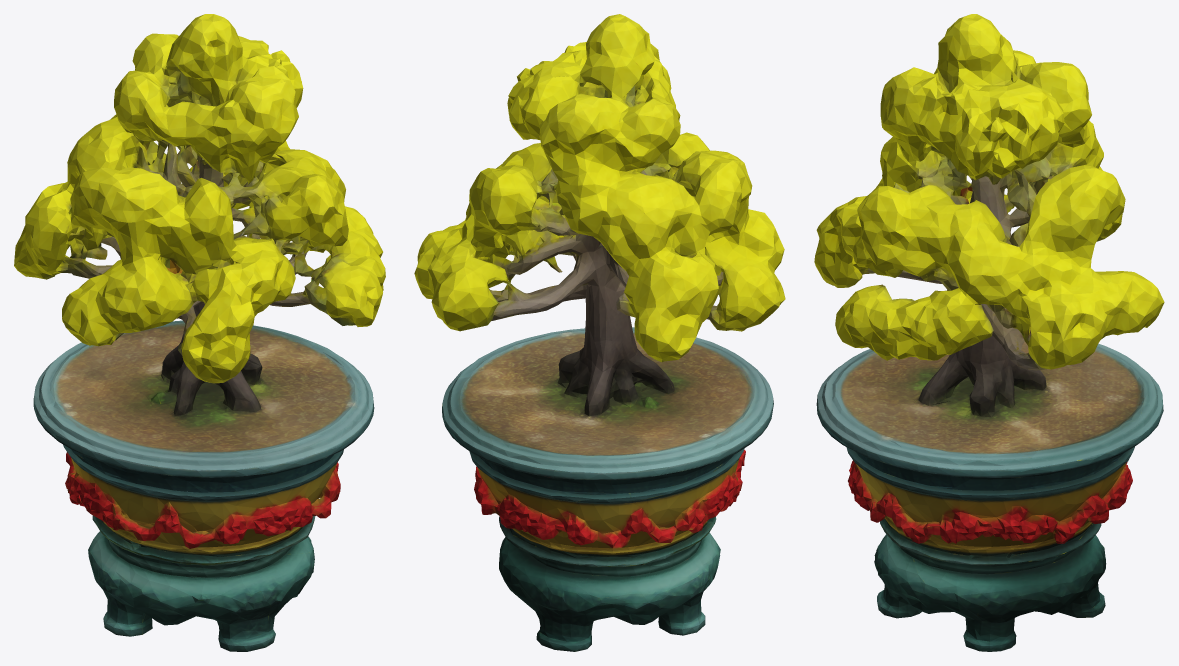
The model's file is cay_mai (3).glb.
3 renders of one model, left to right at view 1: azimuth 30°, elevation 25°; view 2: azimuth 150°, elevation 25°; view 3: azimuth 270°, elevation 25°, orthographic. The views are drawn at different scales.
Visible parts, largest first — view 1: world; view 2: world; view 3: world.
Boxes of the visible parts, left/top/right/bottom form: world: left=14, top=14, right=385, bottom=651; world: left=414, top=14, right=785, bottom=651; world: left=814, top=14, right=1164, bottom=651.
Size of the model in its own units: 0.5511 by 0.9991 by 0.5388.
1 material, 1 textured.
